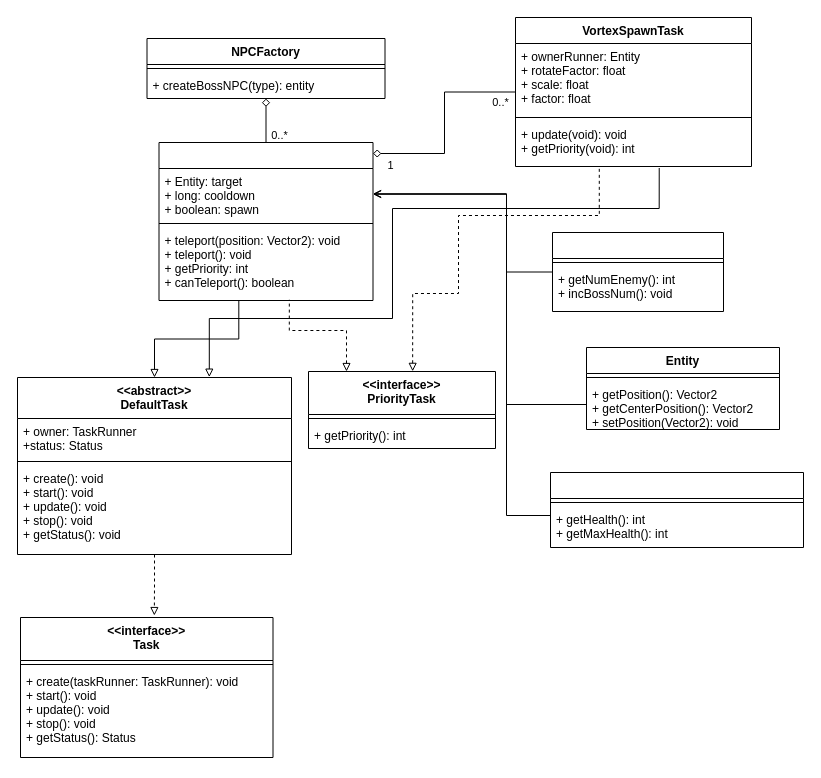
This 821x778 diagram has some shape labels left out. Here are the shapes that lost their labels. From the top down, the box of each, then its label:
(158, 142, 373, 300): TeleportationTask
(552, 232, 724, 312): GameArea
(550, 472, 804, 548): CombatStatComponent
